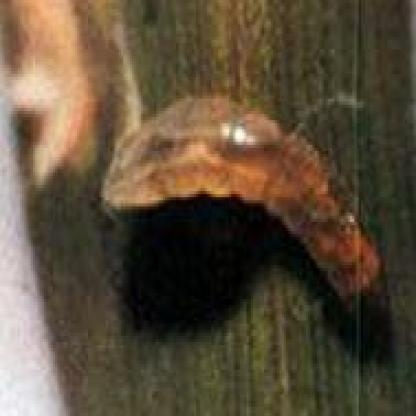whorl-maggot: (100, 94, 385, 318)
